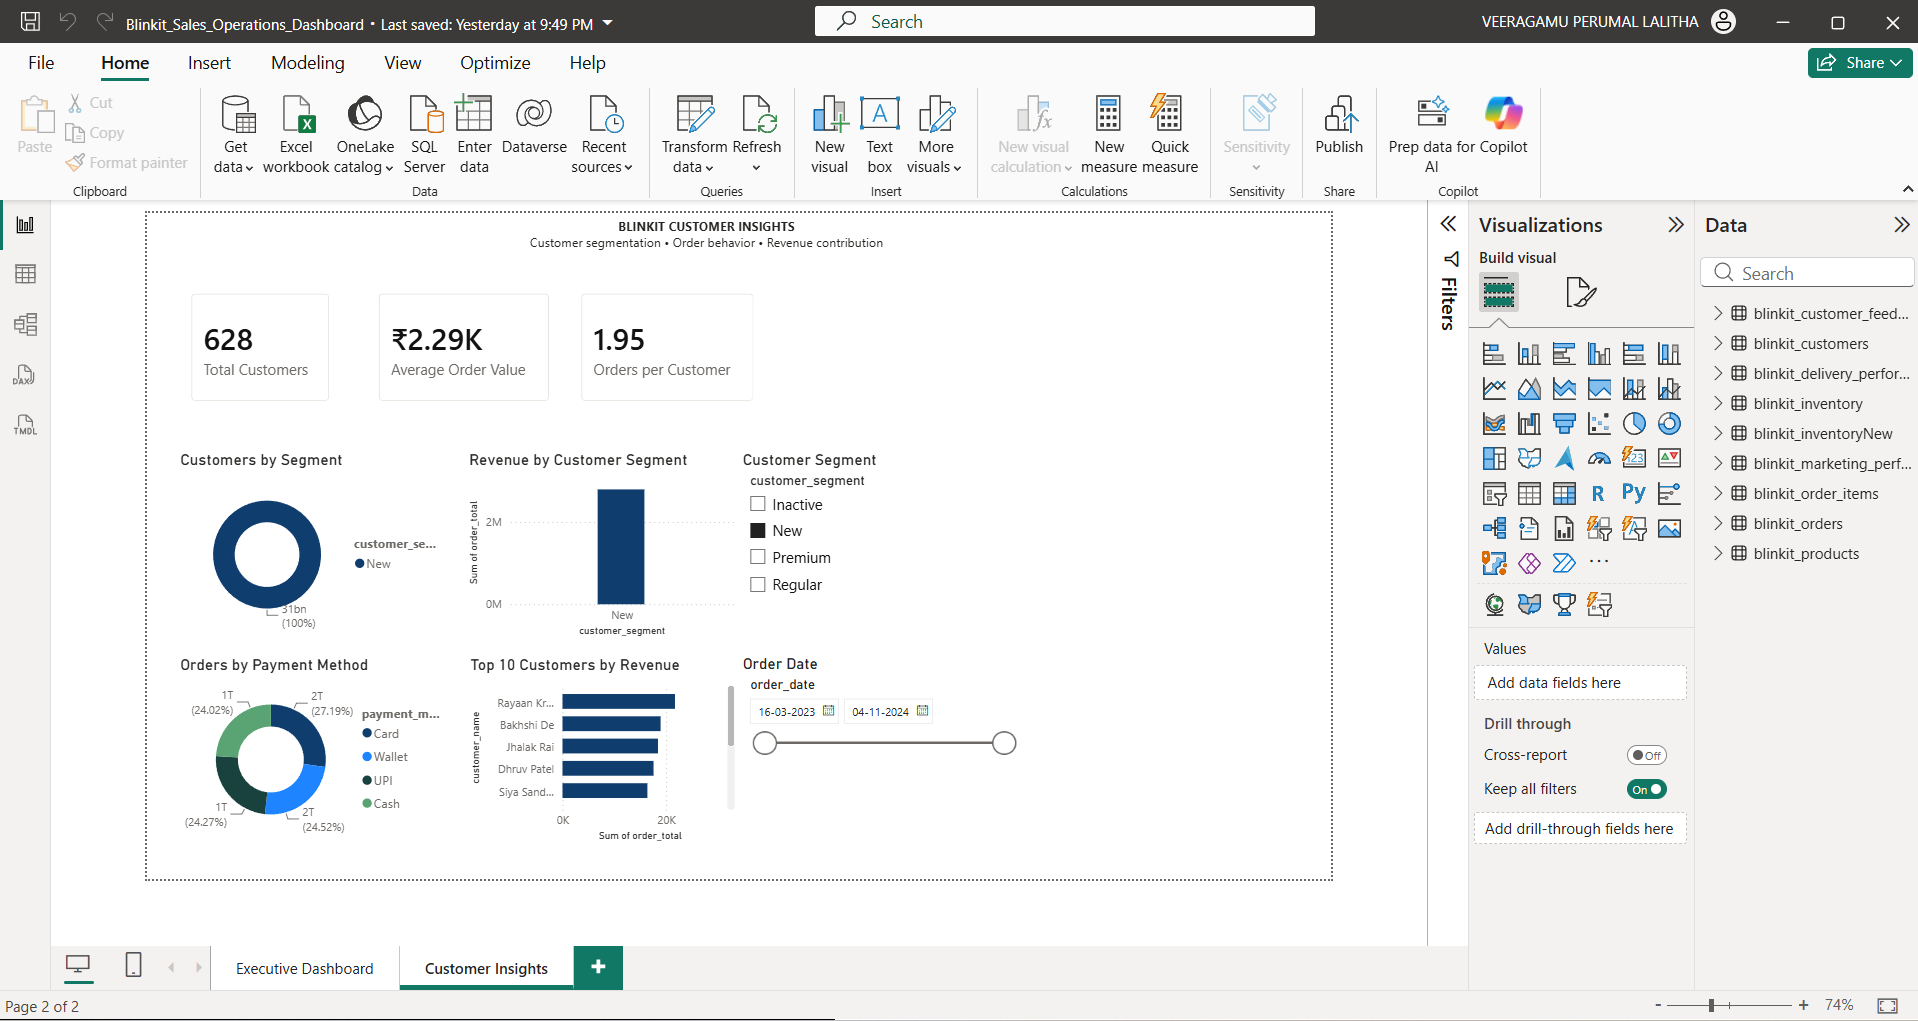

The page's visual inventory and layout, read from the dashboard file:
{"tool":"powerbi","page":{"name":"Customer Insights","canvas":[1280,720],"ordinal":1},"visuals":[{"type":"textbox","box":[10.3,0,1188.5,53.8],"z":0},{"type":"cardVisual","fields":{"Data":["blinkit_orders.Total Customers"]},"box":[31.2,70.8,183.3,150],"z":1},{"type":"cardVisual","fields":{"Data":["blinkit_orders.Average Order Value"]},"box":[233.3,70.8,218.8,150],"z":2},{"type":"cardVisual","fields":{"Data":["blinkit_customers.Orders per Customer"]},"box":[452.1,70.8,220.8,150],"z":3},{"type":"donutChart","title":"Customers by Segment","fields":{"Y":["Sum(blinkit_customers.customer_id)"],"Category":["blinkit_customers.customer_segment"]},"box":[31.2,256.2,295.8,206.2],"z":4},{"type":"clusteredColumnChart","title":"Revenue by Customer Segment","fields":{"Category":["blinkit_customers.customer_segment"],"Y":["Sum(blinkit_orders.order_total)"]},"box":[343.8,256.2,295.8,206.2],"z":5},{"type":"donutChart","title":"Orders by Payment Method","fields":{"Category":["blinkit_orders.payment_method"],"Y":["Sum(blinkit_orders.order_id)"]},"box":[31,478,296,206],"z":6},{"type":"clusteredBarChart","title":"Top 10 Customers by Revenue","fields":{"Category":["blinkit_customers.customer_name"],"Y":["Sum(blinkit_orders.order_total)"]},"box":[344,478,296,206],"z":7},{"type":"slicer","title":"Customer Segment","fields":{"Values":["blinkit_customers.customer_segment"]},"box":[639.6,256.2,308.3,206.2],"z":8},{"type":"slicer","title":"Order Date","fields":{"Values":["blinkit_orders.order_date"]},"box":[639.6,477.1,308.3,206.2],"z":9}]}

Visuals, with their boxes on the page's 1280x720 design canvas (x1, y1, x2, y2). These are canvas units, not pixel positions in the 1918x1021 screenshot, which may show the page scaled, cropped or inside an application window:
textbox: 10 0 1199 54
cardVisual - blinkit_orders.Total Customers: 31 71 214 221
cardVisual - blinkit_orders.Average Order Value: 233 71 452 221
cardVisual - blinkit_customers.Orders per Customer: 452 71 673 221
"Customers by Segment" donutChart: 31 256 327 462
"Revenue by Customer Segment" clusteredColumnChart: 344 256 640 462
"Orders by Payment Method" donutChart: 31 478 327 684
"Top 10 Customers by Revenue" clusteredBarChart: 344 478 640 684
"Customer Segment" slicer: 640 256 948 462
"Order Date" slicer: 640 477 948 683
